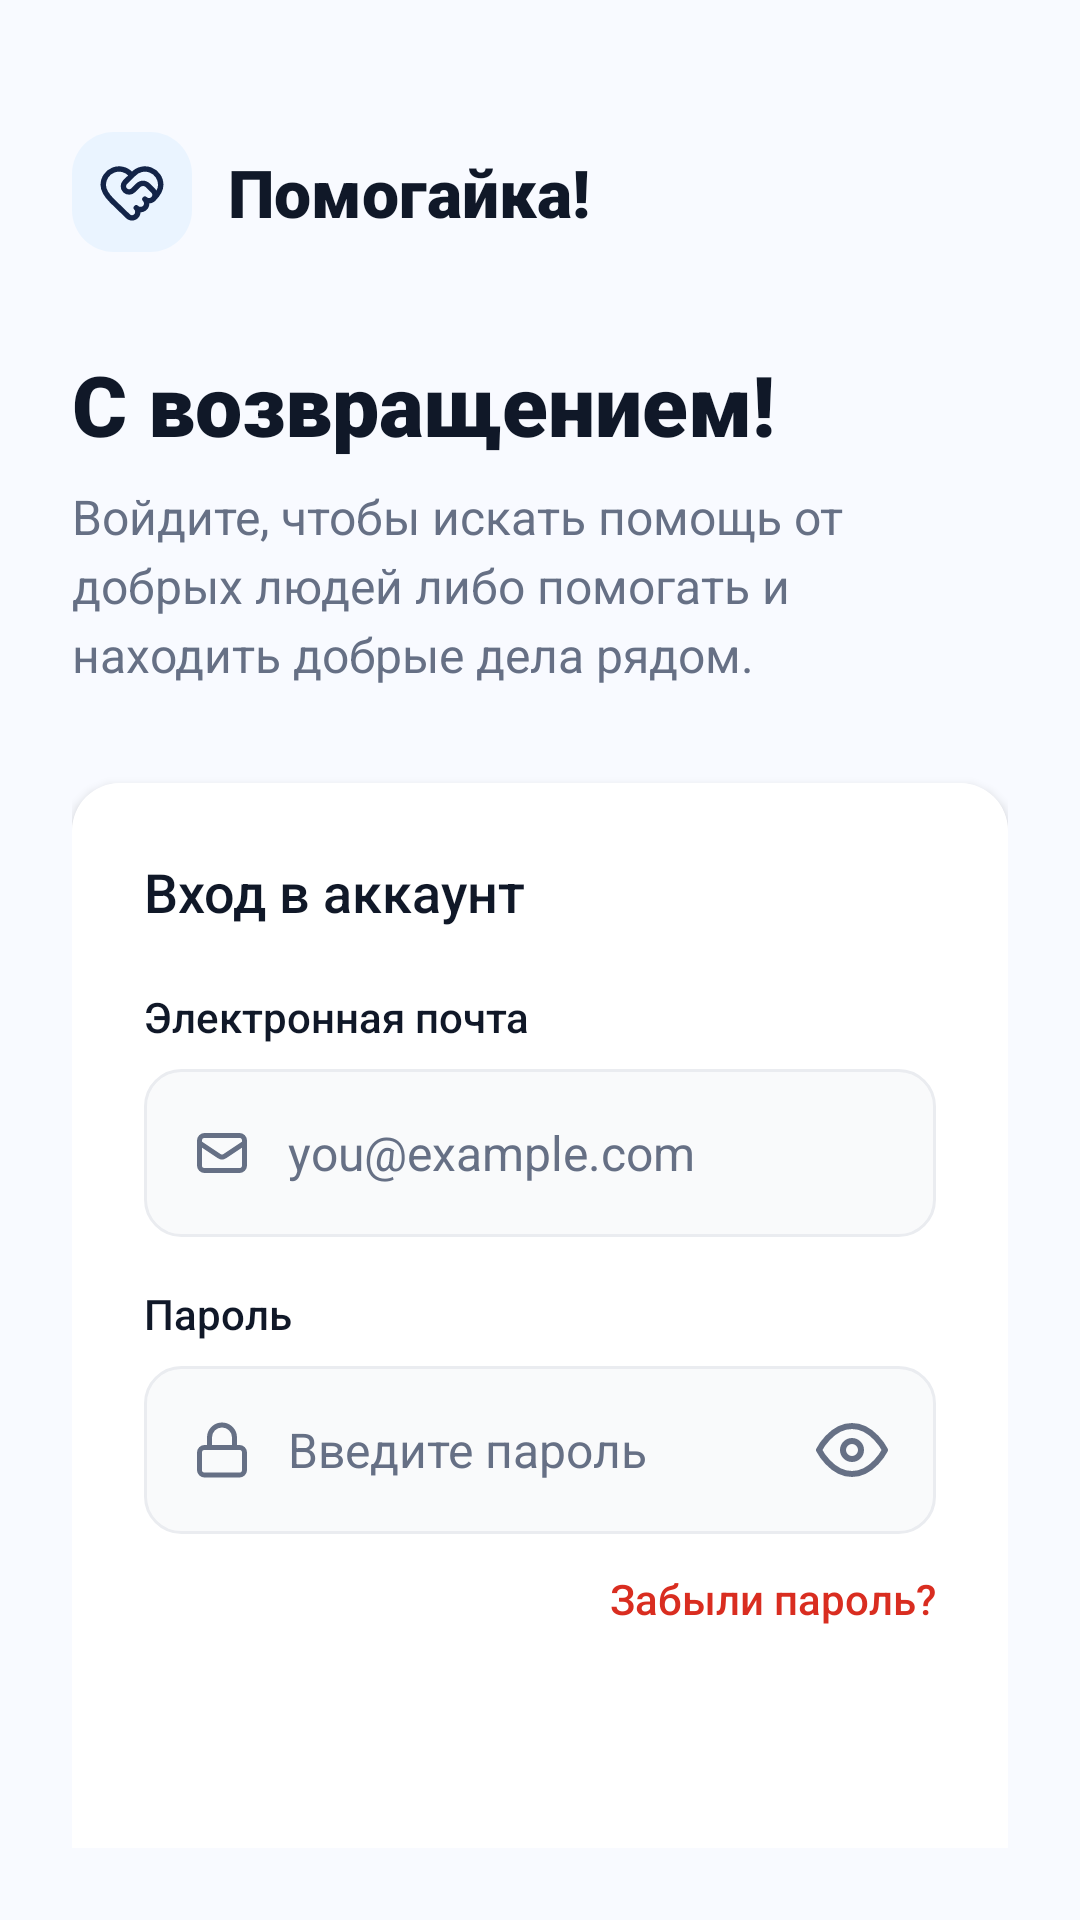

Icon click points for this 1080px x 1920px phone screenshot, format (x,y):
lock: (222,1450)
mail: (222,1153)
visibility: (852,1450)
